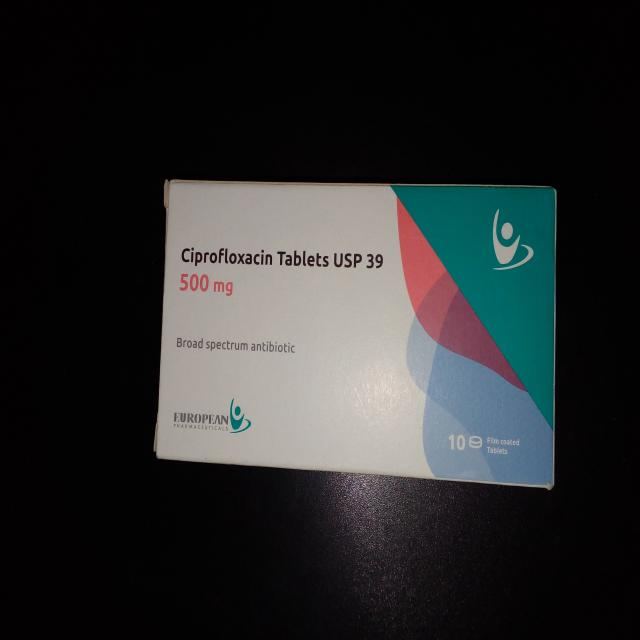Medicine: (153, 172, 560, 490)
